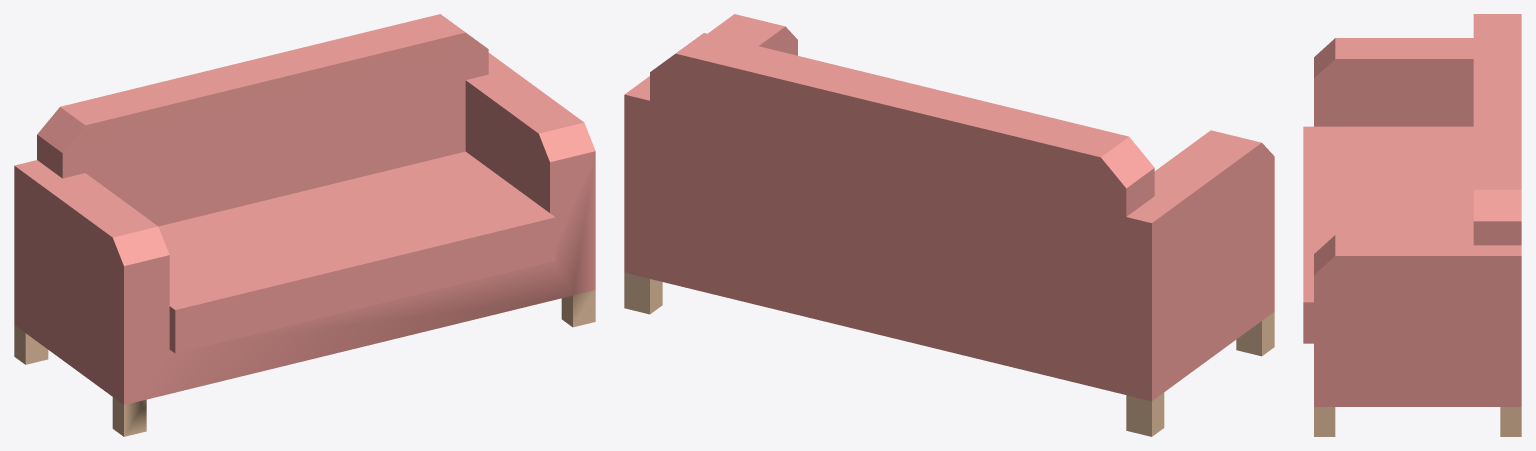
File: couch.fbx
3 views of the same model, side by side, from view 1: azimuth 30°, elevation 25°; view 2: azimuth 150°, elevation 25°; view 3: azimuth 270°, elevation 25° (orthographic). The views are drawn at different scales.
Visible parts, largest first — view 1: loungeSofa; view 2: loungeSofa; view 3: loungeSofa.
Boxes of the visible parts, bbox=[...] form: loungeSofa: bbox=[14, 14, 595, 436]; loungeSofa: bbox=[624, 14, 1274, 436]; loungeSofa: bbox=[1303, 14, 1521, 436].
Bounding box in the file's own units: 254 × 290 × 599.
